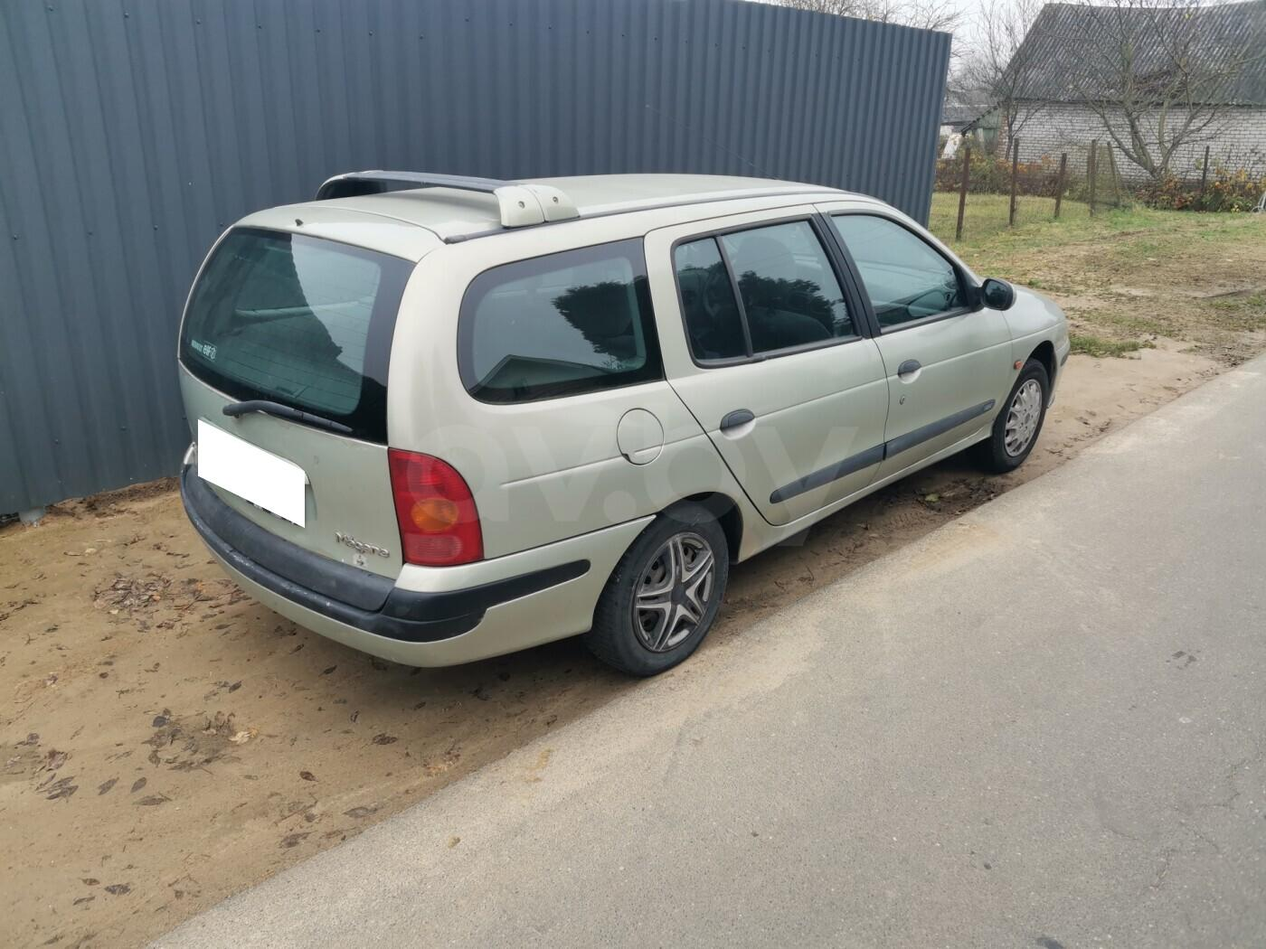Megane_1999-2003: (159, 167, 1072, 689)
